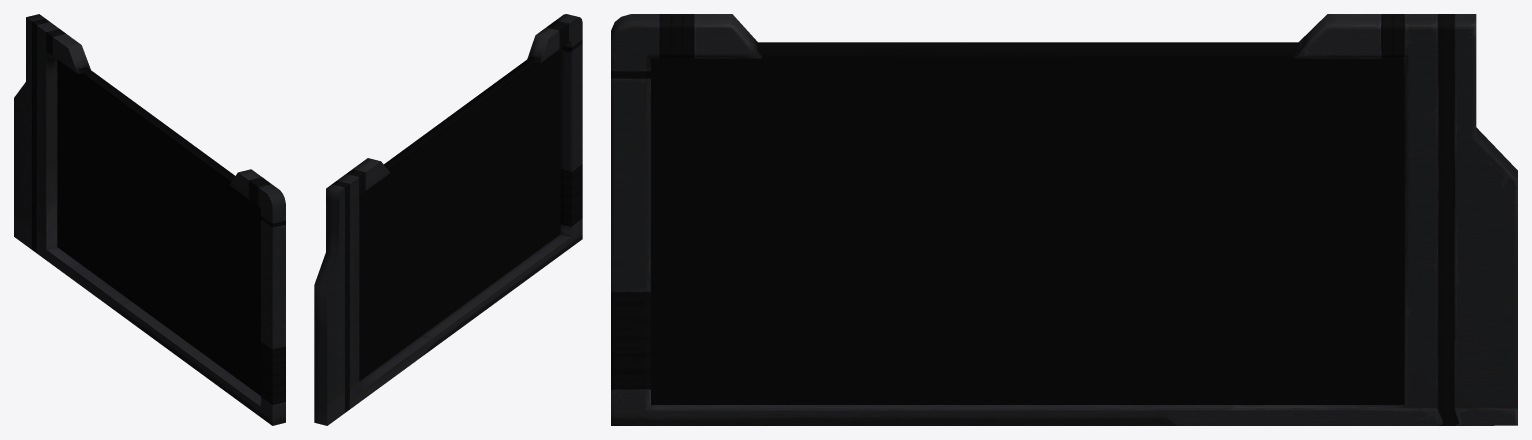
The model's file is GUI_Terminal02_03_STATIC.FBX.
3 renders of one model, left to right at view 1: azimuth 30°, elevation 25°; view 2: azimuth 150°, elevation 25°; view 3: azimuth 270°, elevation 25°, orthographic. The views are drawn at different scales.
Parts seen in each view (by area): view 1: GUI_Terminal02_03_STATIC; view 2: GUI_Terminal02_03_STATIC; view 3: GUI_Terminal02_03_STATIC.
Part boxes in pixels (box(x1,y1,x2,y2)): GUI_Terminal02_03_STATIC: box(14, 14, 285, 425); GUI_Terminal02_03_STATIC: box(314, 14, 582, 425); GUI_Terminal02_03_STATIC: box(611, 14, 1517, 425).
Size of the model in its own units: 0.1345 by 2.17 by 4.46.
